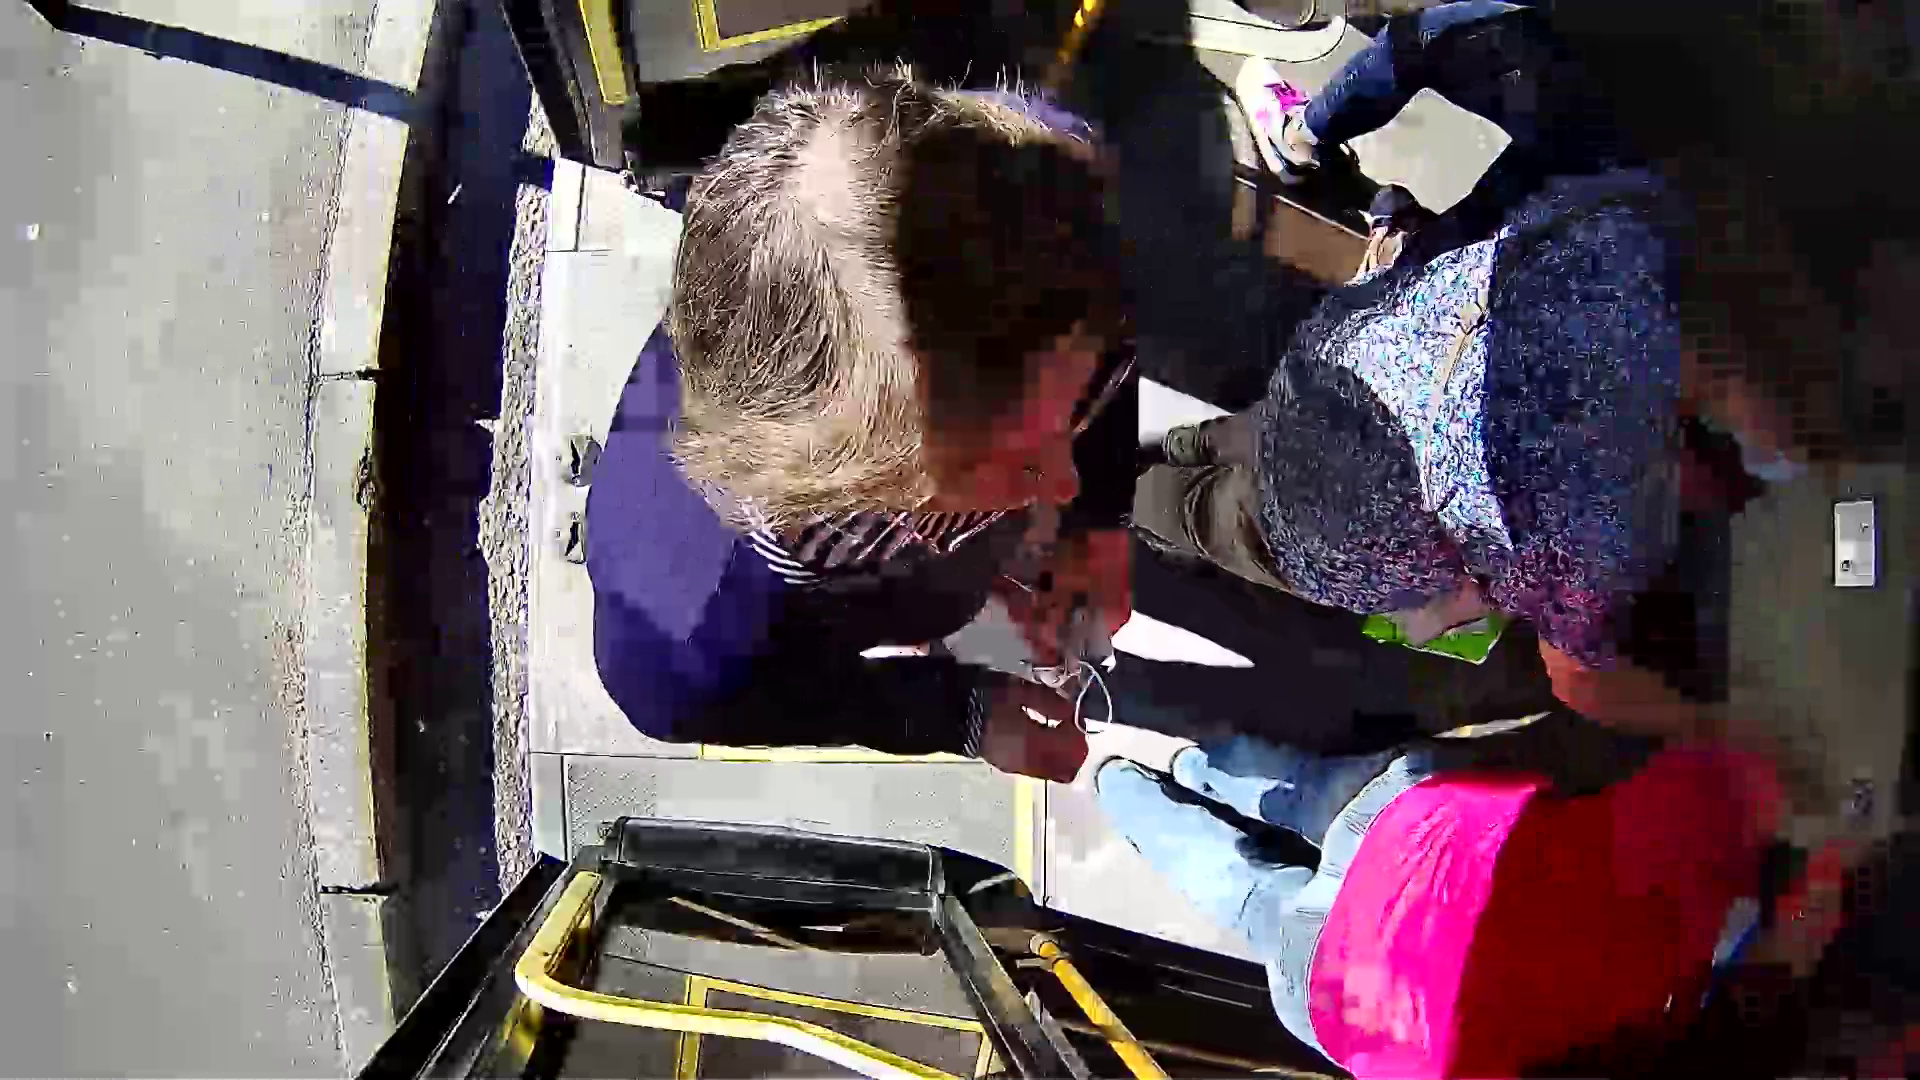person: (574, 101, 1188, 774)
